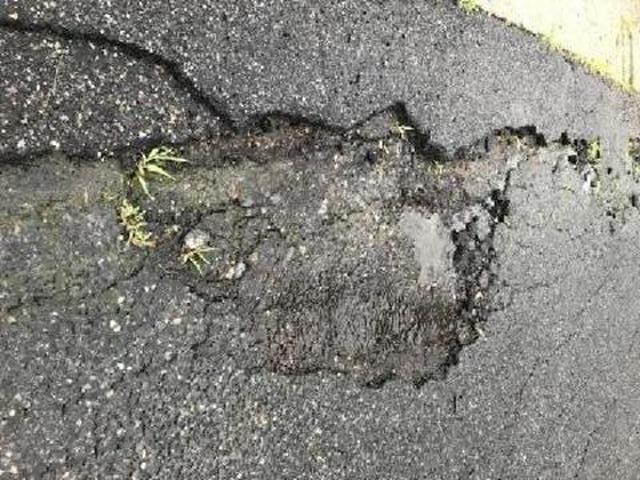pothole: (147, 99, 508, 411)
